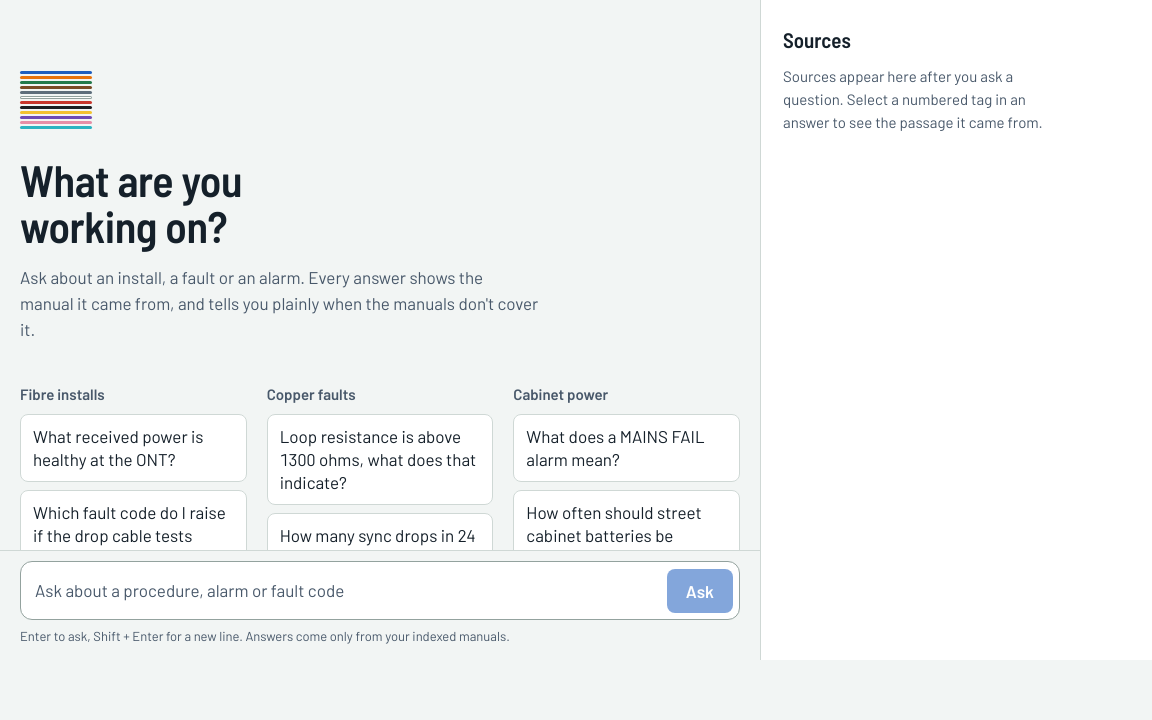
ChatPage › sends feedback for an answer
The width and height of the screenshot is (1152, 720).
Type "What is healthy power?" into the text box named "Your question" at (347, 590), box [35,568,659,613]
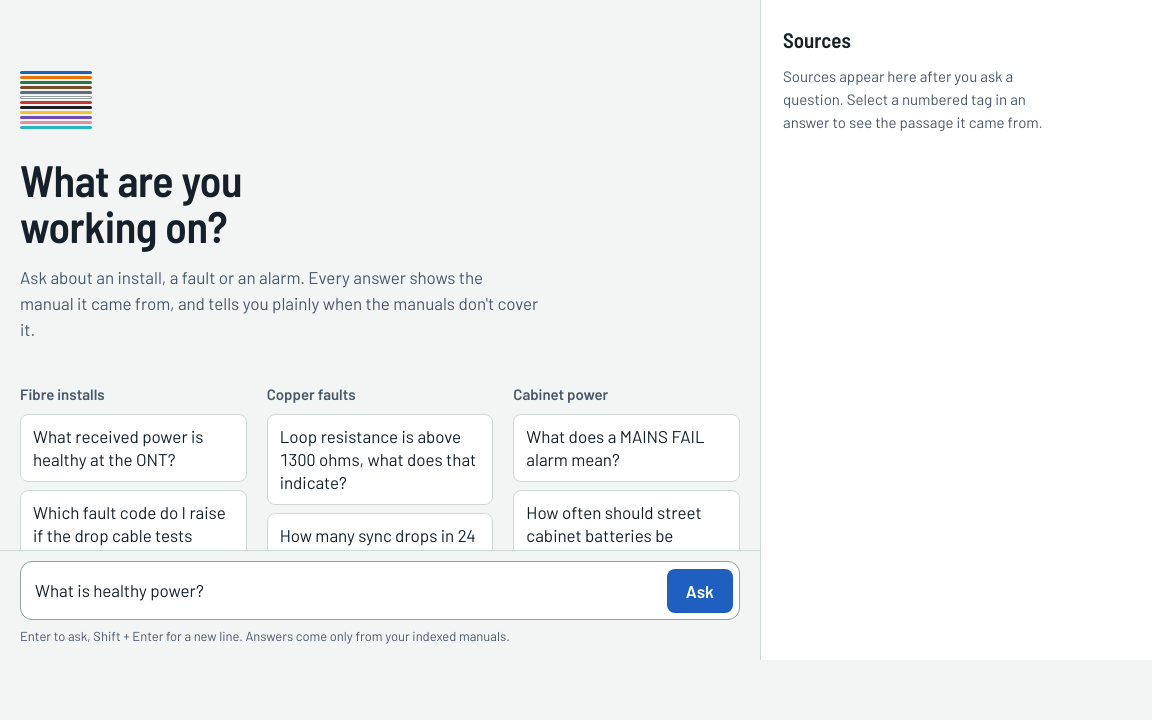
Click the button "Ask" at (700, 591), box [667,569,733,613]
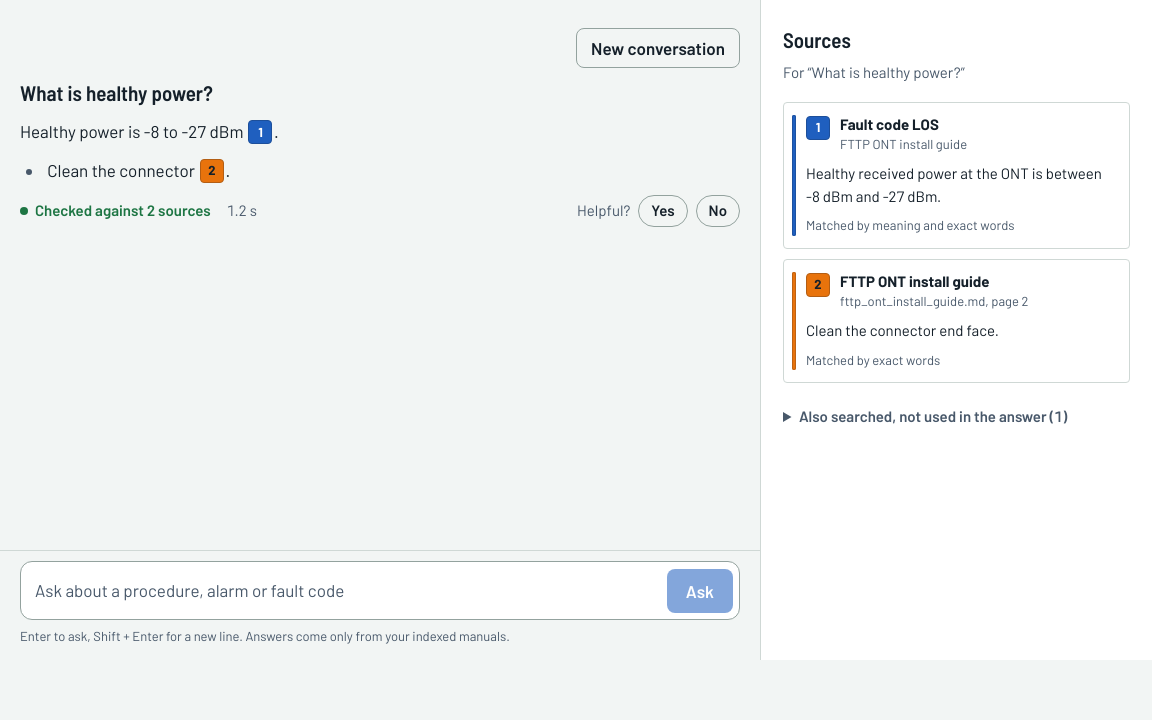
Click the button "Yes" at (663, 211), box [638,195,688,227]
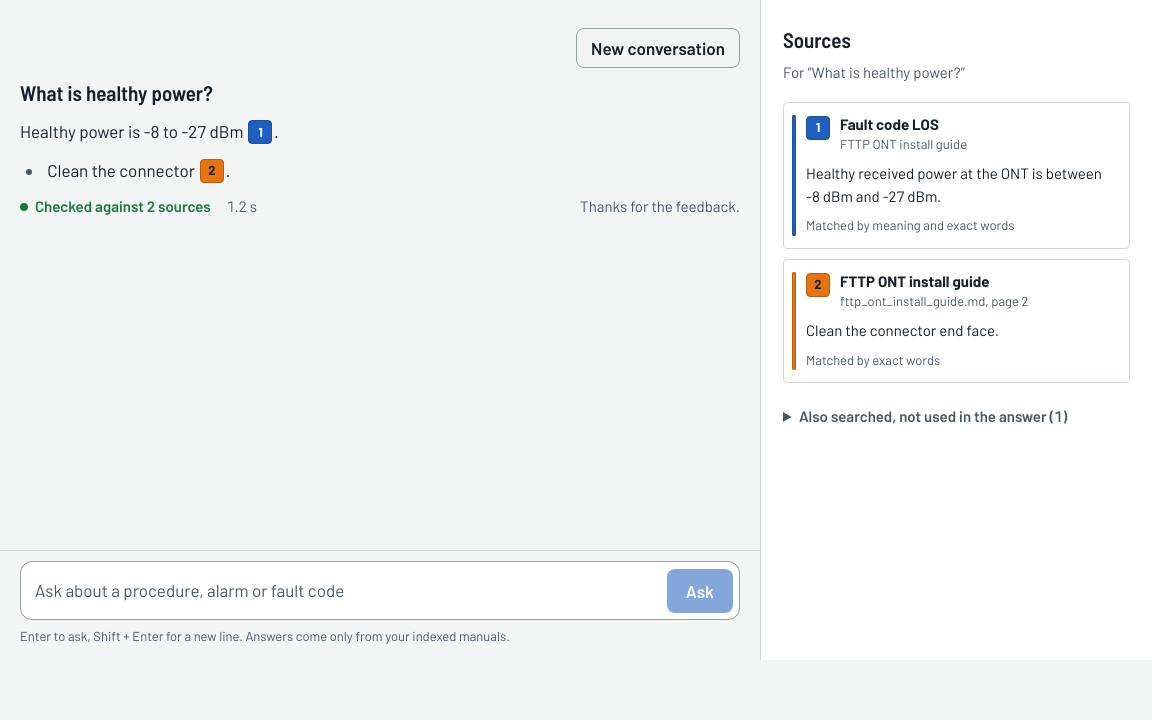
Check: the text "Thanks for the feedback." is shown, box [580,195,740,218]
